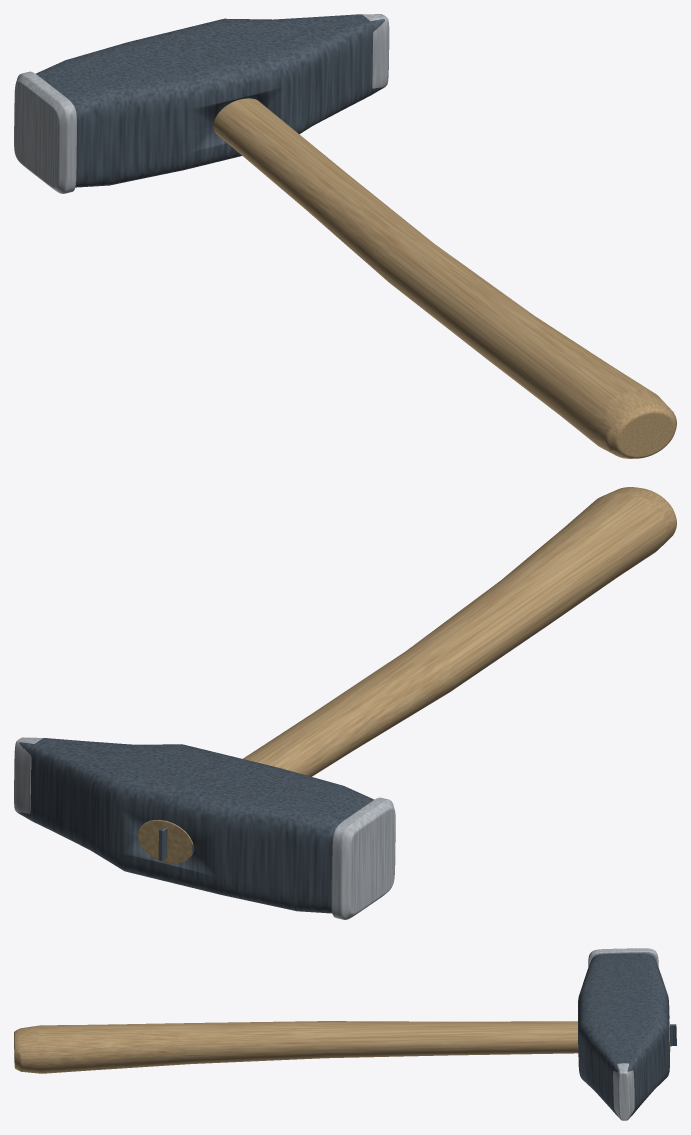
File: hammer3.obj
The picture shows the model from 3 angles, top to bottom: view 1: azimuth 30°, elevation 25°; view 2: azimuth 150°, elevation 25°; view 3: azimuth 270°, elevation 25°; orthographic projection. The views are drawn at different scales.
Visible parts, largest first — view 1: Forged_cross_peen_head, Shaped_wooden_handle.001, Polished_square_striking_face, Ground_cross_peen_tip; view 2: Forged_cross_peen_head, Shaped_wooden_handle.001, Polished_square_striking_face, Exposed_end_grain_in_eye.001, Ground_cross_peen_tip; view 3: Shaped_wooden_handle.001, Forged_cross_peen_head, Ground_cross_peen_tip, Polished_square_striking_face.
Part boxes in pixels (<box>): Forged_cross_peen_head: <box>36,14,384,187</box>; Shaped_wooden_handle.001: <box>213,98,676,458</box>; Polished_square_striking_face: <box>14,71,76,193</box>; Ground_cross_peen_tip: <box>362,14,389,88</box>; Forged_cross_peen_head: <box>18,738,374,913</box>; Shaped_wooden_handle.001: <box>243,487,676,776</box>; Polished_square_striking_face: <box>331,797,395,919</box>; Exposed_end_grain_in_eye.001: <box>137,820,193,863</box>; Ground_cross_peen_tip: <box>14,737,42,814</box>; Shaped_wooden_handle.001: <box>14,1021,578,1073</box>; Forged_cross_peen_head: <box>578,953,669,1118</box>; Ground_cross_peen_tip: <box>613,1063,634,1120</box>; Polished_square_striking_face: <box>588,948,658,967</box>.
Size of the model in its own units: 0.135 by 0.0364 by 0.3197.
4 materials, 4 textured.
